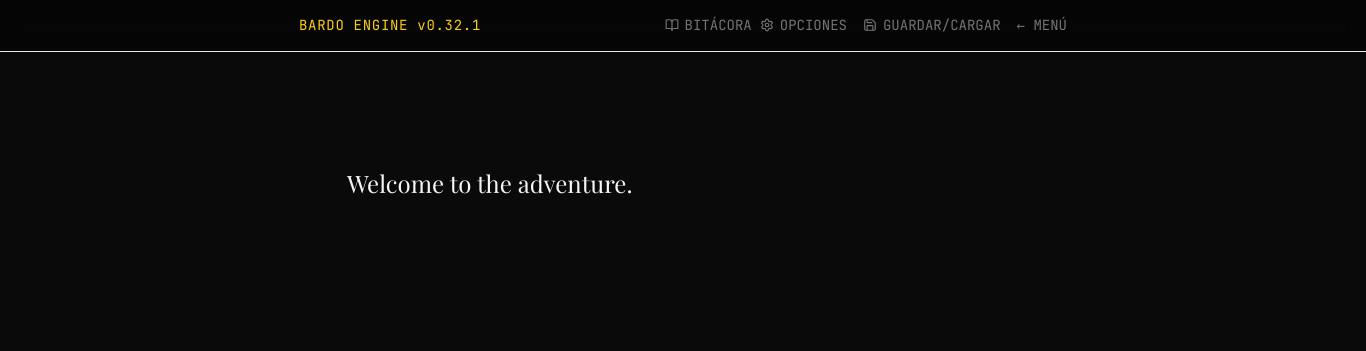
Test case: Player › minigame handling › should show Comenzar Juego button when minigame pending and not auto-start
Click the text "Welcome to the adventure.". click: point(490, 183)
box: [347,167,632,199]
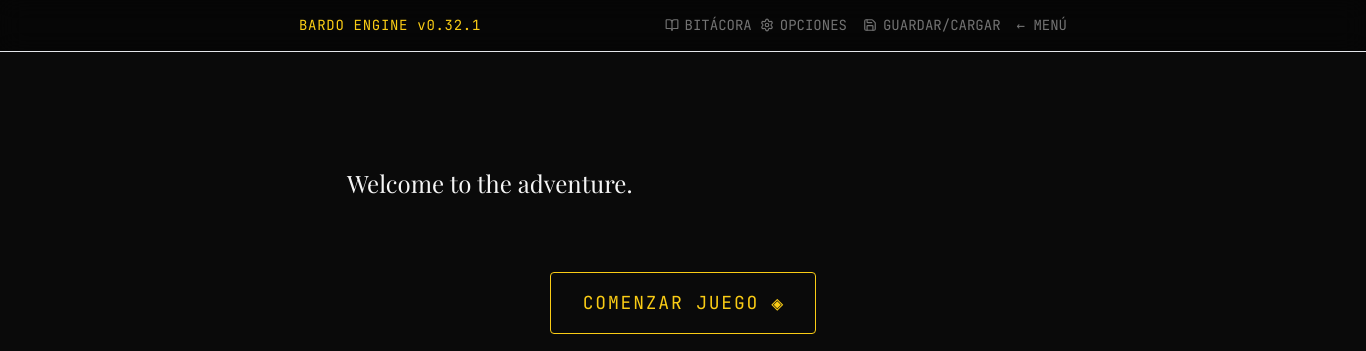
Expected: the text "Comenzar Juego" is shown, [583,289,759,317]
